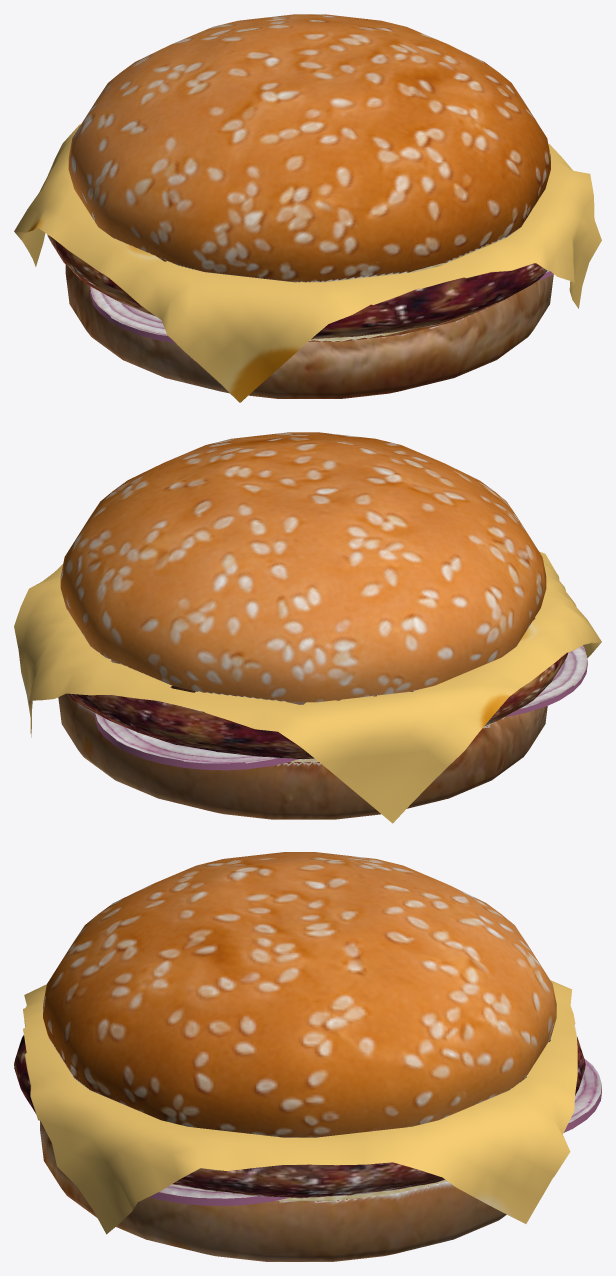
Rendered from cheeseburger.FBX.
3 views of the same model, one above another, from view 1: azimuth 30°, elevation 25°; view 2: azimuth 150°, elevation 25°; view 3: azimuth 270°, elevation 25° (orthographic). The views are drawn at different scales.
Visible parts, largest first — view 1: up bread; view 2: up bread; view 3: up bread.
Boxes of the visible parts, bbox=[...] form: up bread: bbox=[14, 14, 601, 402]; up bread: bbox=[14, 432, 601, 823]; up bread: bbox=[14, 852, 601, 1261].
Bounding box in the file's own units: 899 × 453 × 910.
1 material, 1 textured.
